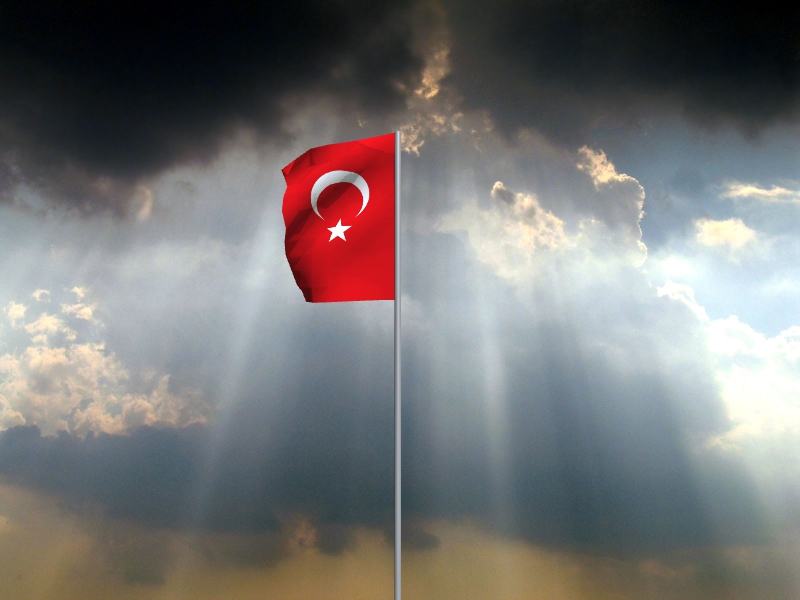tr: (281, 133, 394, 304)
